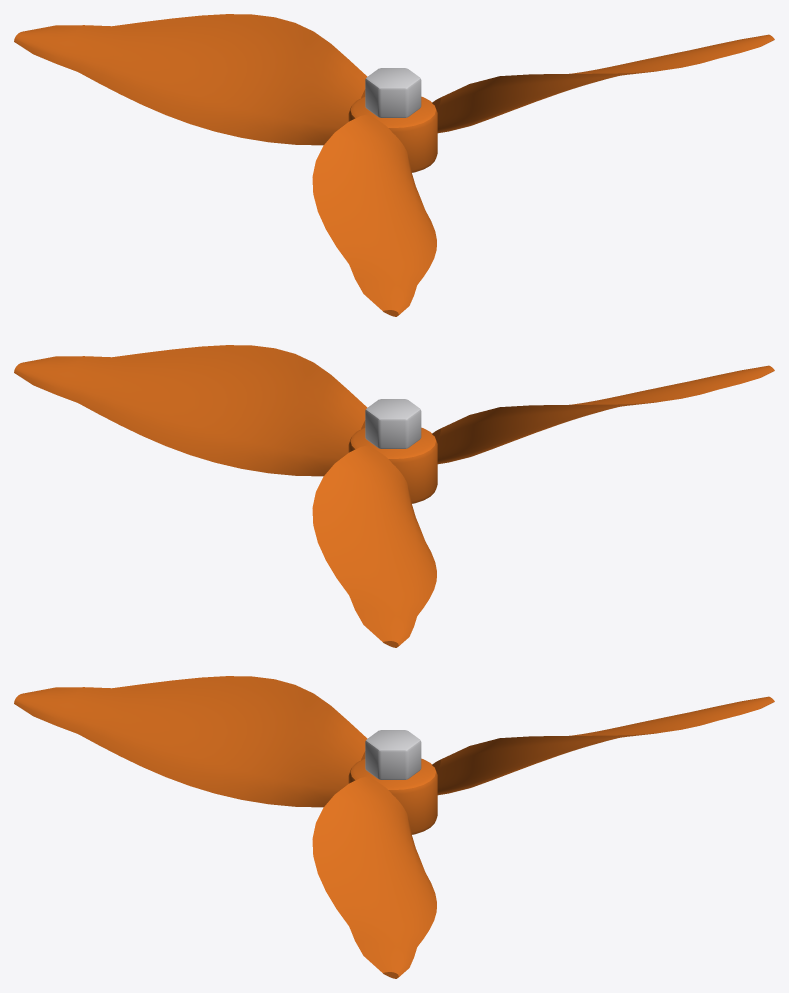
Rendered from SM_FPVDrone_Prop_CW.fbx.
3 renders of one model, top to bottom at view 1: azimuth 30°, elevation 25°; view 2: azimuth 150°, elevation 25°; view 3: azimuth 270°, elevation 25°, orthographic.
Parts seen in each view (by area): view 1: SM_FPVDrone_Prop_CW; view 2: SM_FPVDrone_Prop_CW; view 3: SM_FPVDrone_Prop_CW.
Part boxes in pixels (box(x1,y1,x2,y2)): SM_FPVDrone_Prop_CW: box(14, 14, 774, 316); SM_FPVDrone_Prop_CW: box(14, 345, 774, 647); SM_FPVDrone_Prop_CW: box(14, 676, 774, 978).
Bounding box in the file's own units: 0.097 × 0.013 × 0.1112.
